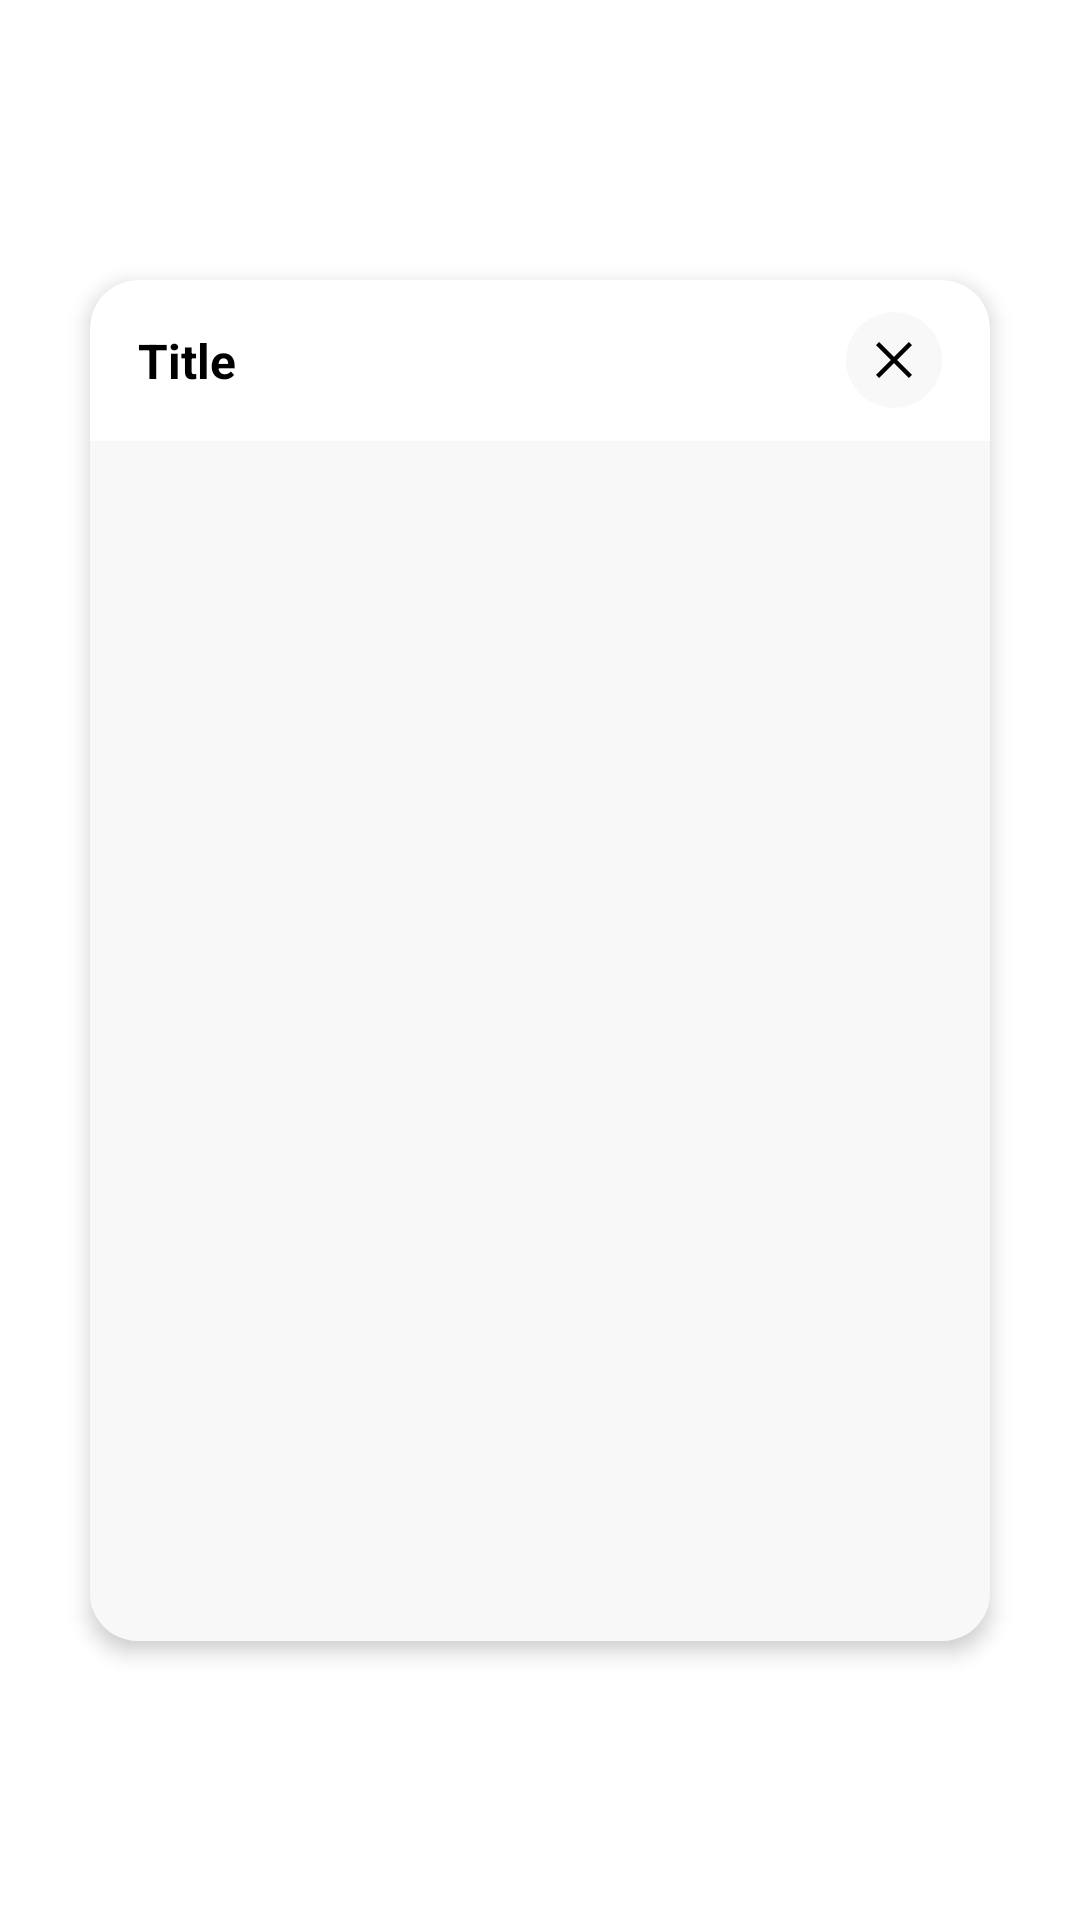

Screen size 1080*1920. Icon name, then its box in pixels as (x1, y1, x2, y2):
close: (876, 342, 912, 378)
